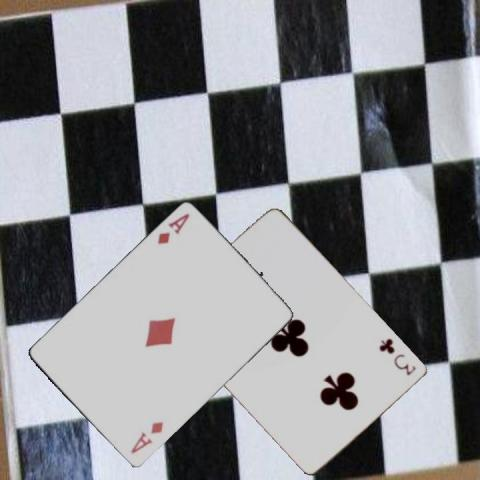3c: (376, 335, 418, 377)
Ad: (127, 419, 165, 456), (154, 210, 191, 246)
